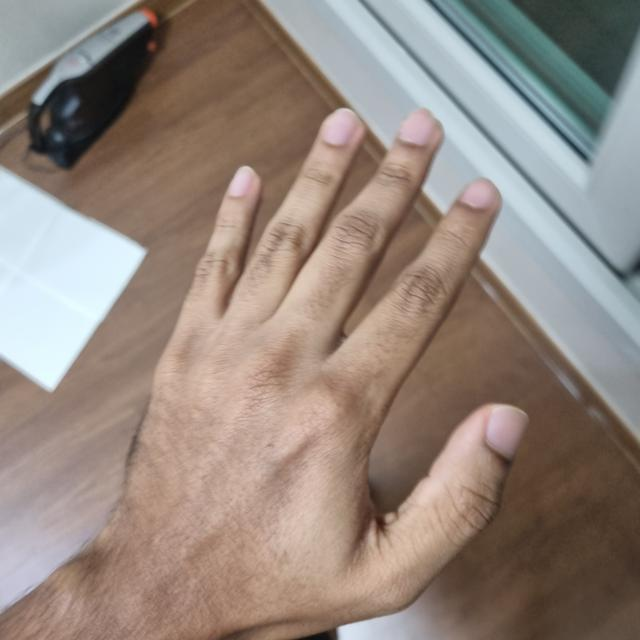Paper: (98, 225, 517, 639)
